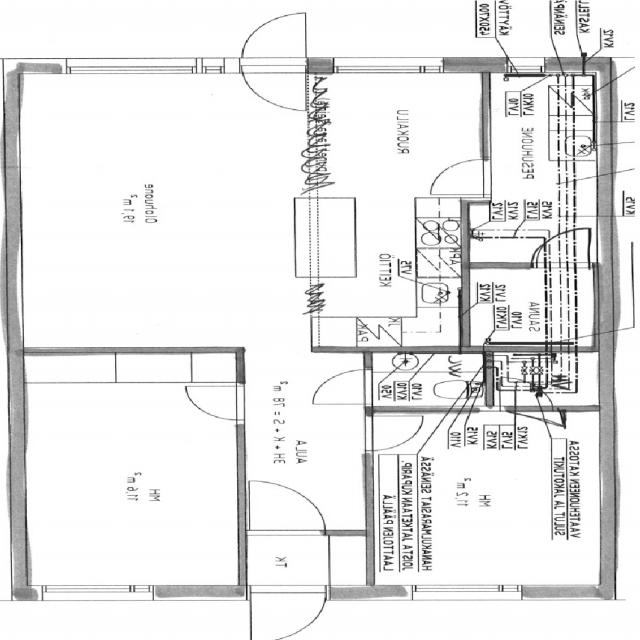door: (249, 481, 324, 536), (250, 586, 325, 640), (241, 15, 306, 73), (241, 58, 306, 114), (533, 226, 591, 269), (430, 159, 490, 195), (507, 406, 559, 446), (184, 386, 243, 421), (365, 417, 424, 451), (314, 370, 372, 404)
